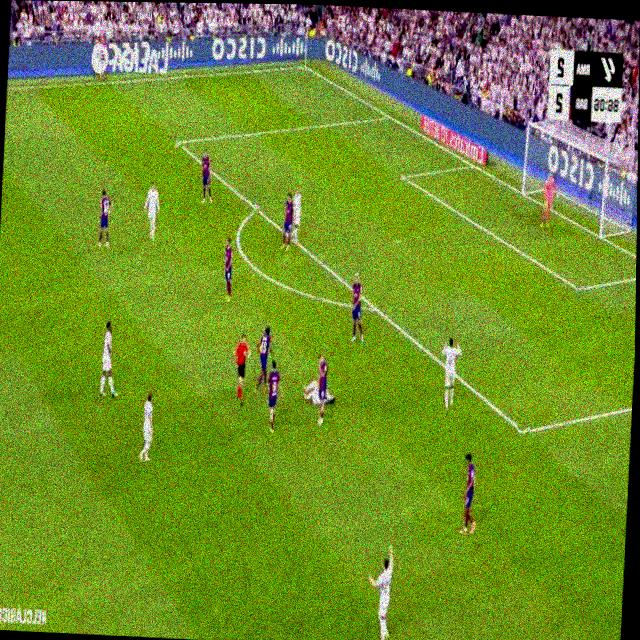bigarea_bottom_inner: (517, 417, 530, 445)
bigarea_top_inner: (174, 133, 183, 151)
bigarea_top_outter: (384, 108, 392, 122)
bottom_arc_area_intersection: (369, 297, 380, 318)
corner: (301, 61, 308, 69)
smallarea_bottom_inner: (574, 278, 584, 299)
smallarea_top_inner: (401, 169, 407, 184)
top_arc_area_intersection: (254, 201, 259, 215)
